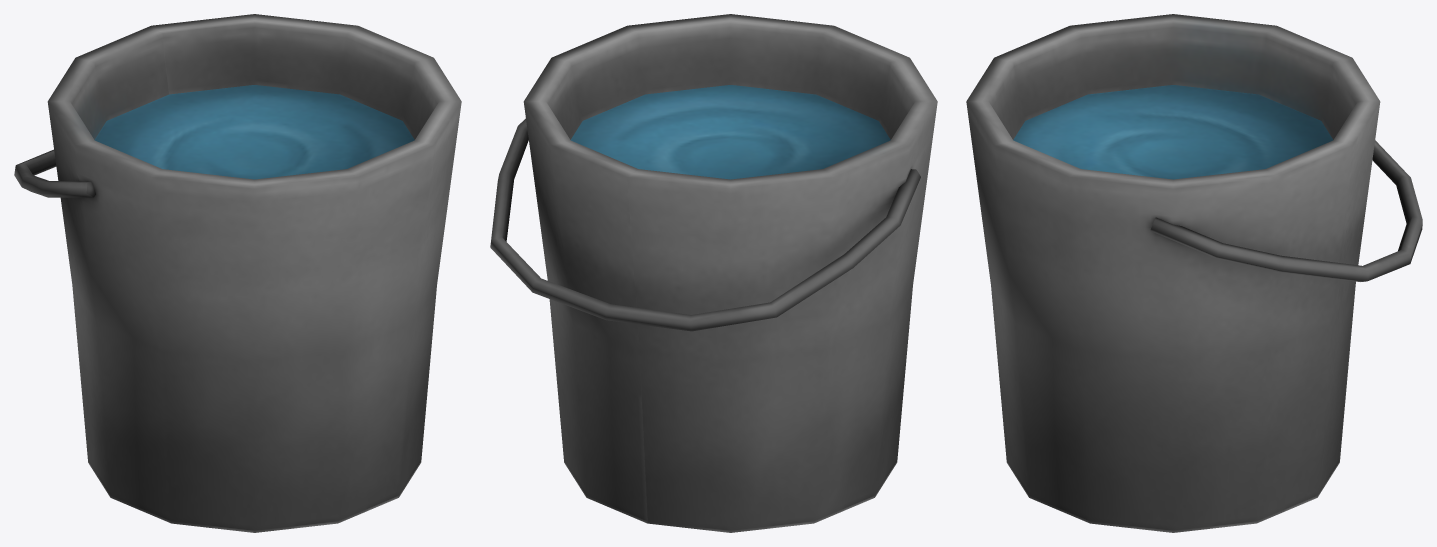
The model's file is Bucket.fbx.
3 views of the same model, side by side, from view 1: azimuth 30°, elevation 25°; view 2: azimuth 150°, elevation 25°; view 3: azimuth 270°, elevation 25° (orthographic).
Parts seen in each view (by area): view 1: Bucket MODULO 05; view 2: Bucket MODULO 05; view 3: Bucket MODULO 05.
Part boxes in pixels (x1,y1,x2,y2): Bucket MODULO 05: (14,14,461,532); Bucket MODULO 05: (490,14,937,532); Bucket MODULO 05: (966,14,1422,532).
Bounding box in the file's own units: 199 × 179 × 205.
